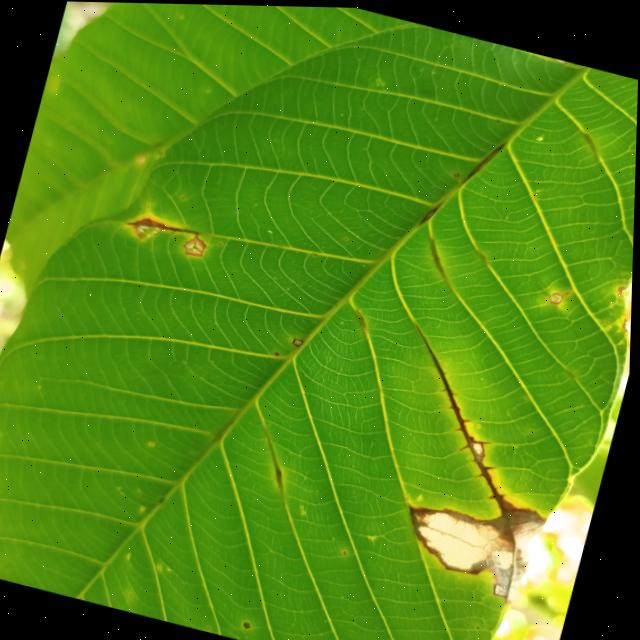Colletotrichum: (292, 336, 304, 345), (245, 620, 254, 628), (452, 171, 459, 176), (275, 349, 280, 355)
Corynespora: (373, 318, 552, 514), (461, 133, 506, 187), (127, 212, 203, 242), (419, 195, 444, 226)
Leaf-Blight: (394, 478, 552, 604), (182, 234, 208, 256)
